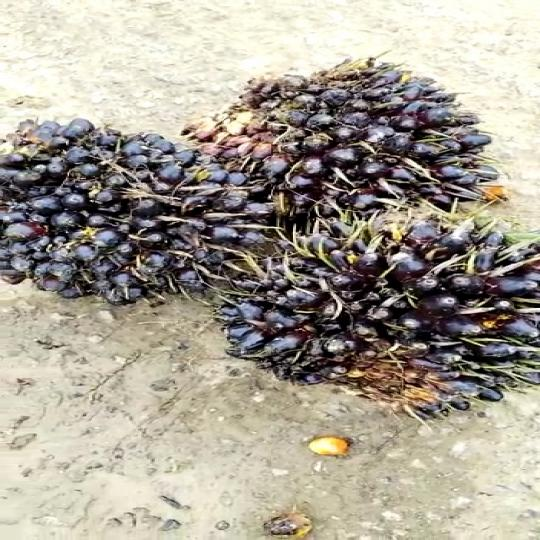mentah: (216, 213, 540, 411), (165, 53, 540, 221), (0, 104, 281, 309)
